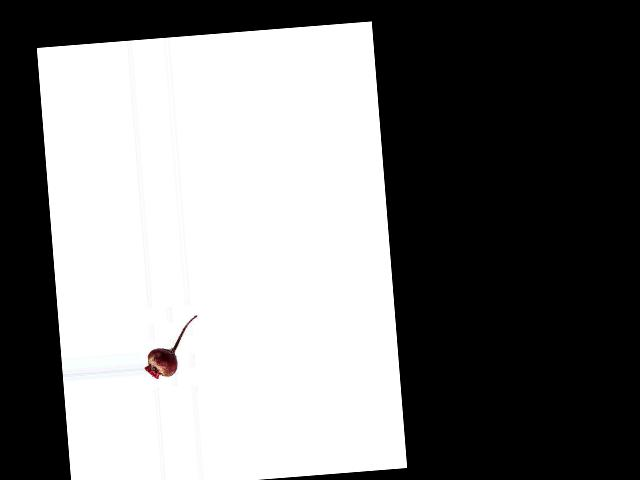beet: (140, 315, 202, 379)
